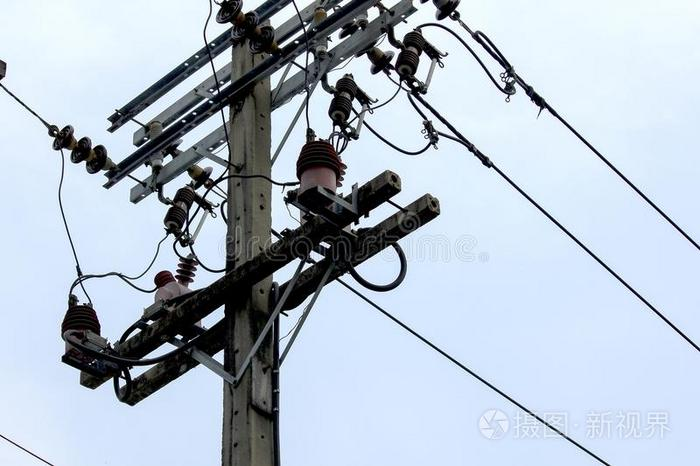insulator: (215, 1, 277, 54), (49, 124, 109, 178)
